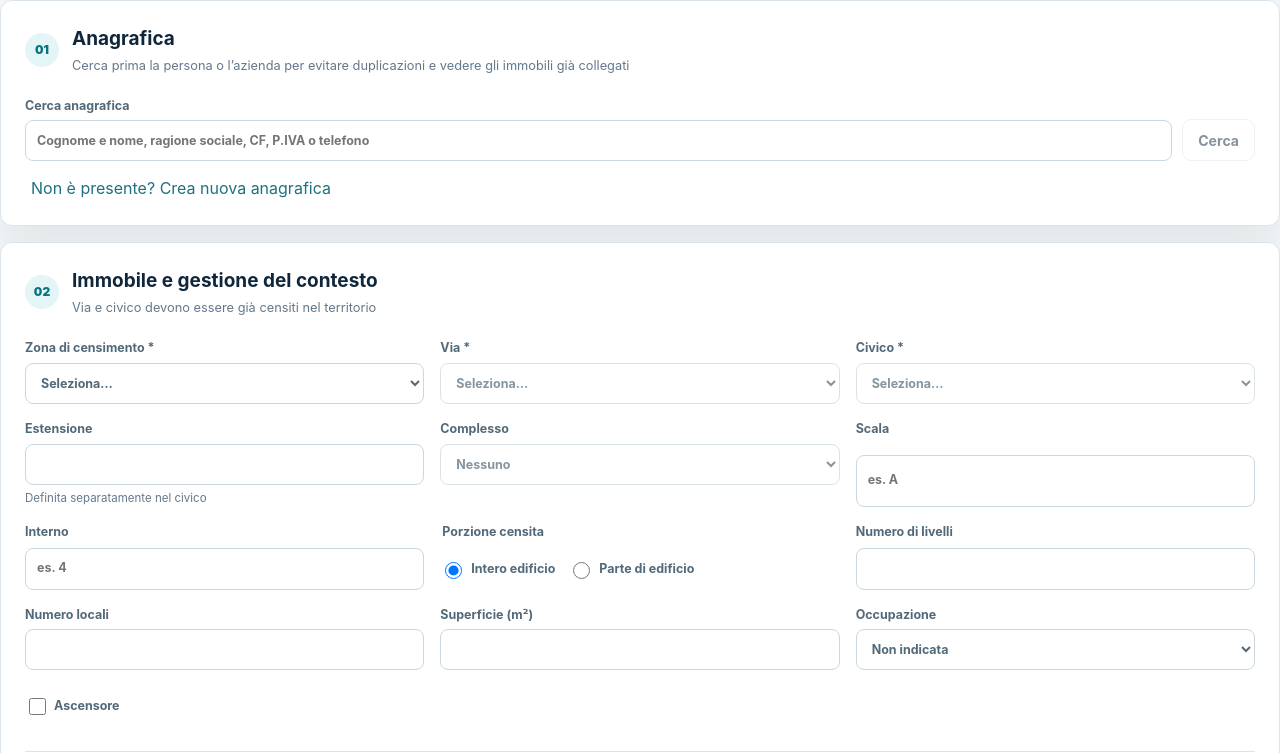
Test: contact form › suggests linking an existing subject only from a strong identifier
Click the button "Non è presente? Crea nuova anagrafica" at [181, 188], box 25,175 -> 337,201
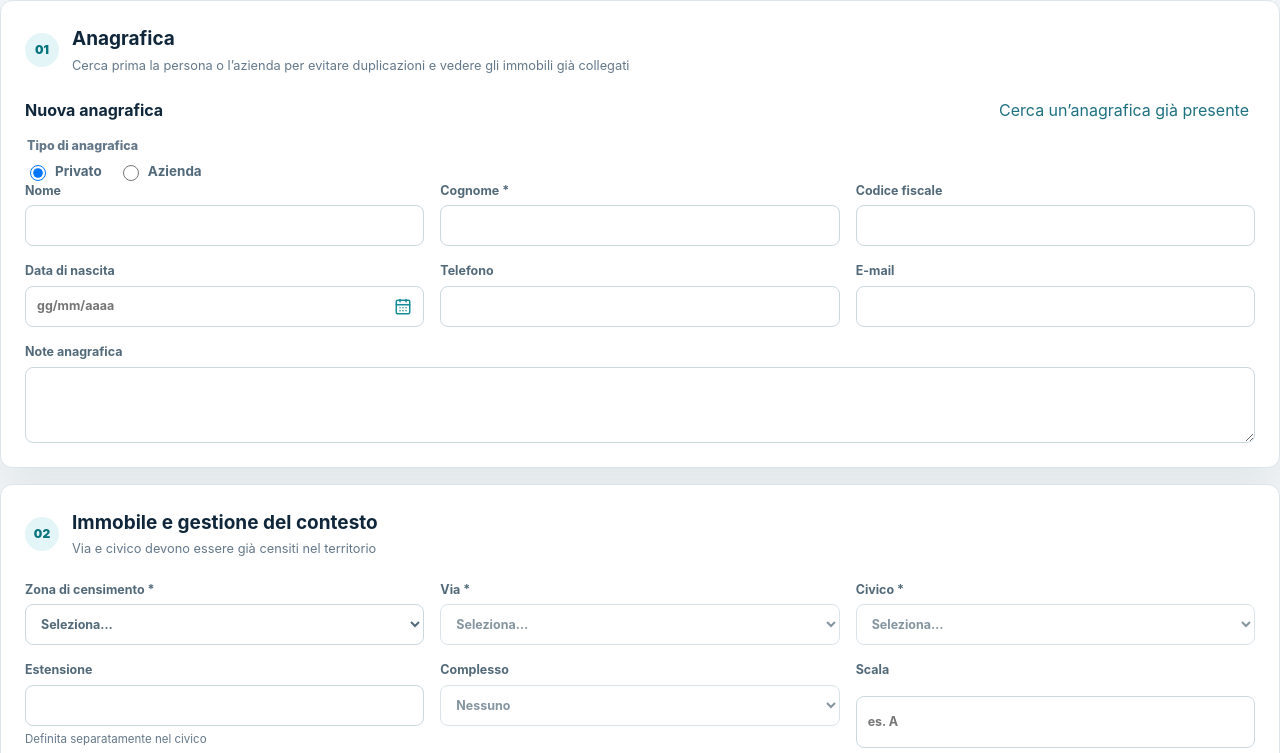
Type "FRRNNA80A41A944X" into the field labelled "Codice fiscale" at [1055, 226], box 856,205 -> 1255,246
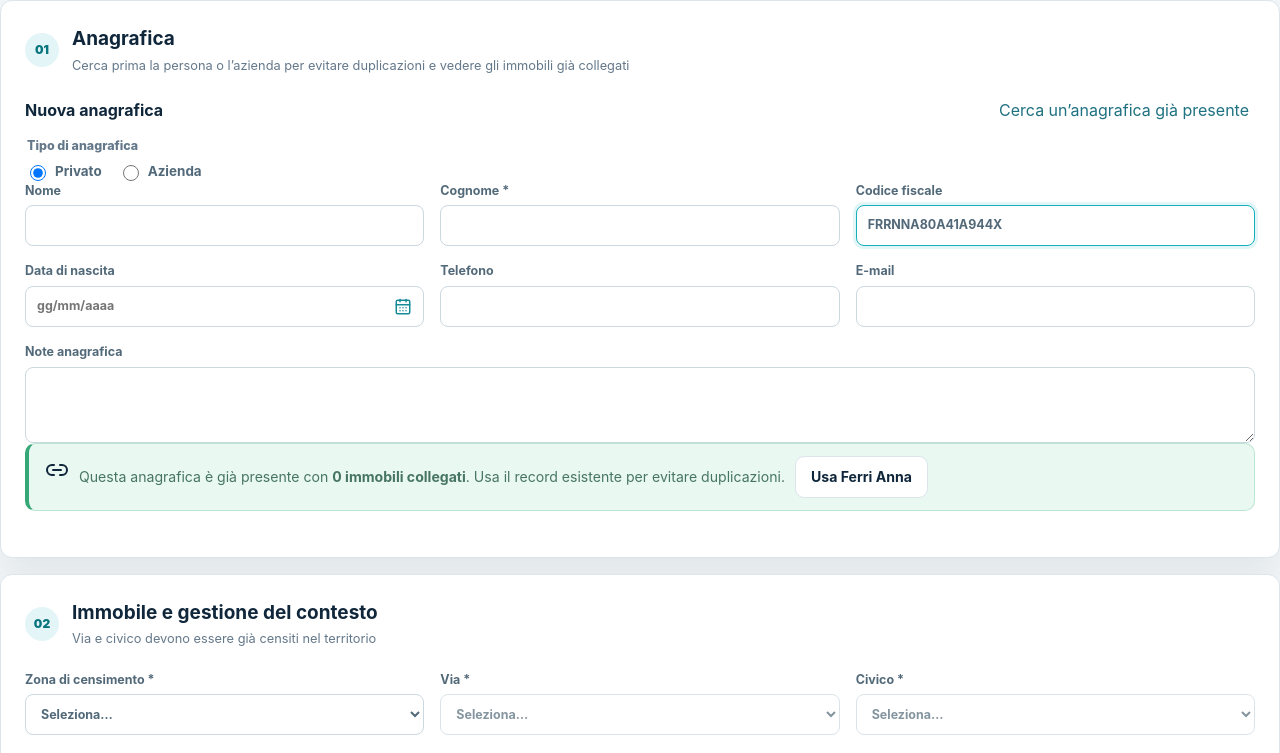
Result: the text "Questa anagrafica è già presente" is shown at 79,468 -> 332,485
Click the button "Usa Ferri Anna" at [862, 477], box 795,456 -> 928,498
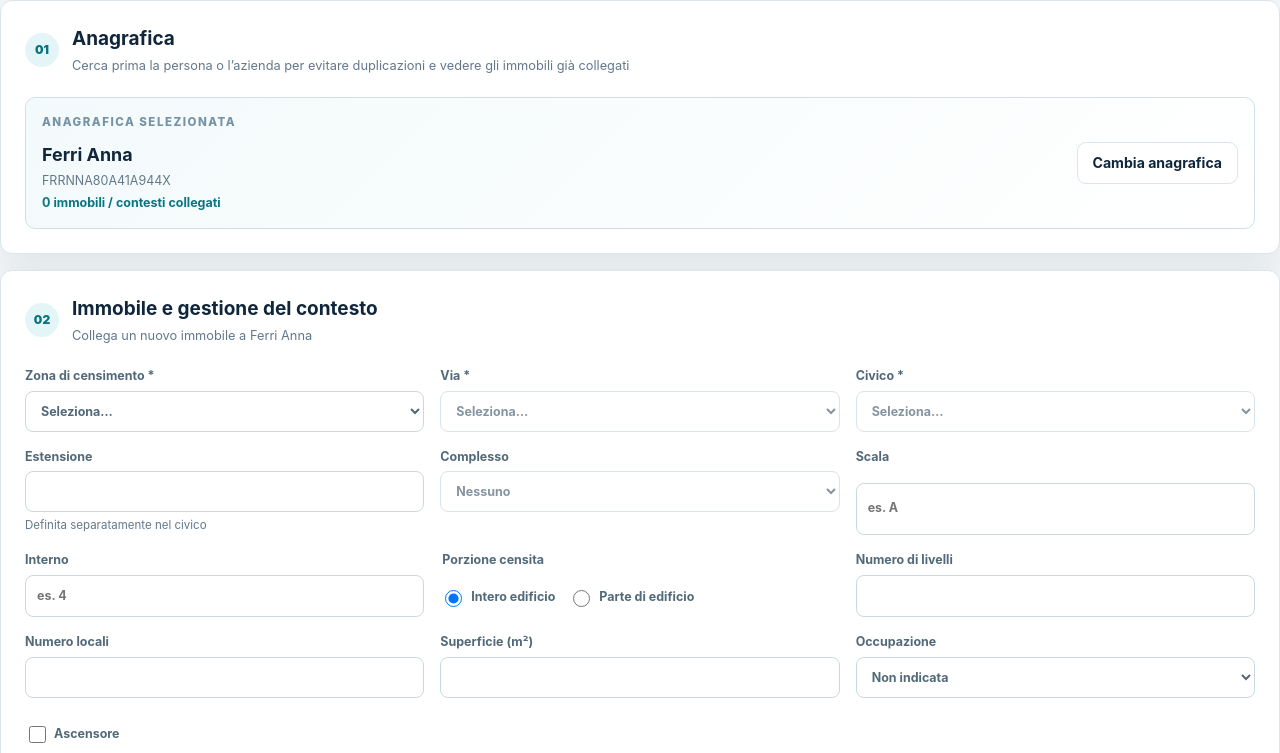
Result: the text "Anagrafica selezionata" is shown at 42,114 -> 236,131
